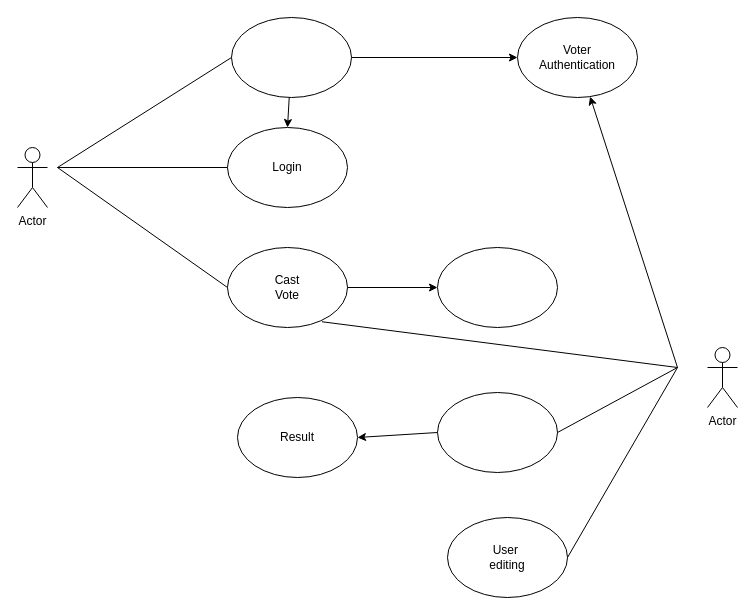
Some shapes in this 755 by 615 pixel diagram are drawn without their labels. Here are the shapes that lost their labels. From the top down, the centre of each, then its label:
pixel 291 57: Register
pixel 497 287: Vote Verification
pixel 497 432: Tally Checking
